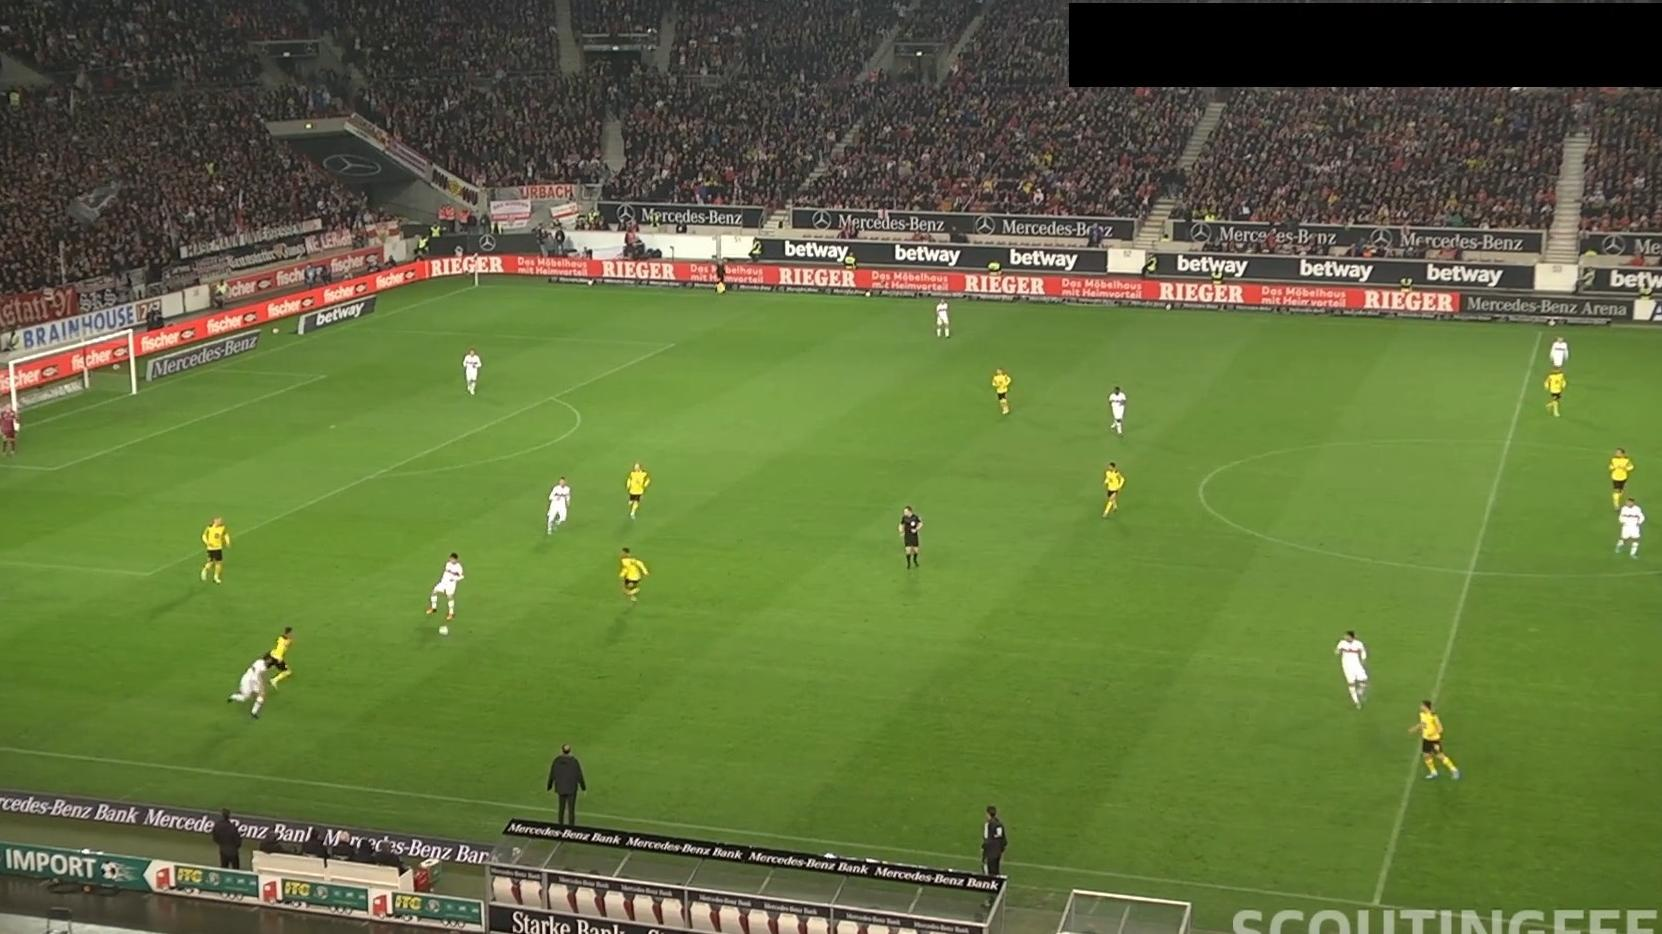ball: (437, 625, 450, 637)
